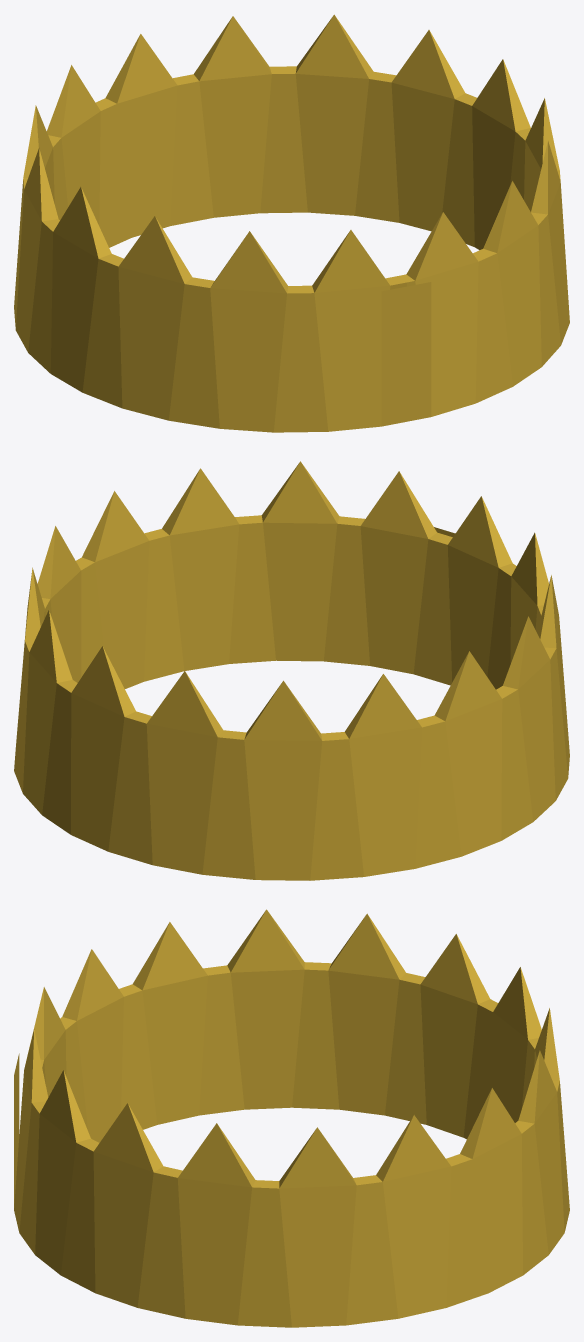
The model's file is Corona.fbx.
3 views of the same model, one above another, from view 1: azimuth 30°, elevation 25°; view 2: azimuth 150°, elevation 25°; view 3: azimuth 270°, elevation 25° (orthographic).
Parts seen in each view (by area): view 1: Circle; view 2: Circle; view 3: Circle.
Boxes of the visible parts, <box> form: Circle: <box>14,14,569,432</box>; Circle: <box>14,461,569,880</box>; Circle: <box>14,909,569,1327</box>.
Size of the model in its own units: 2.29 by 0.8738 by 2.29.
